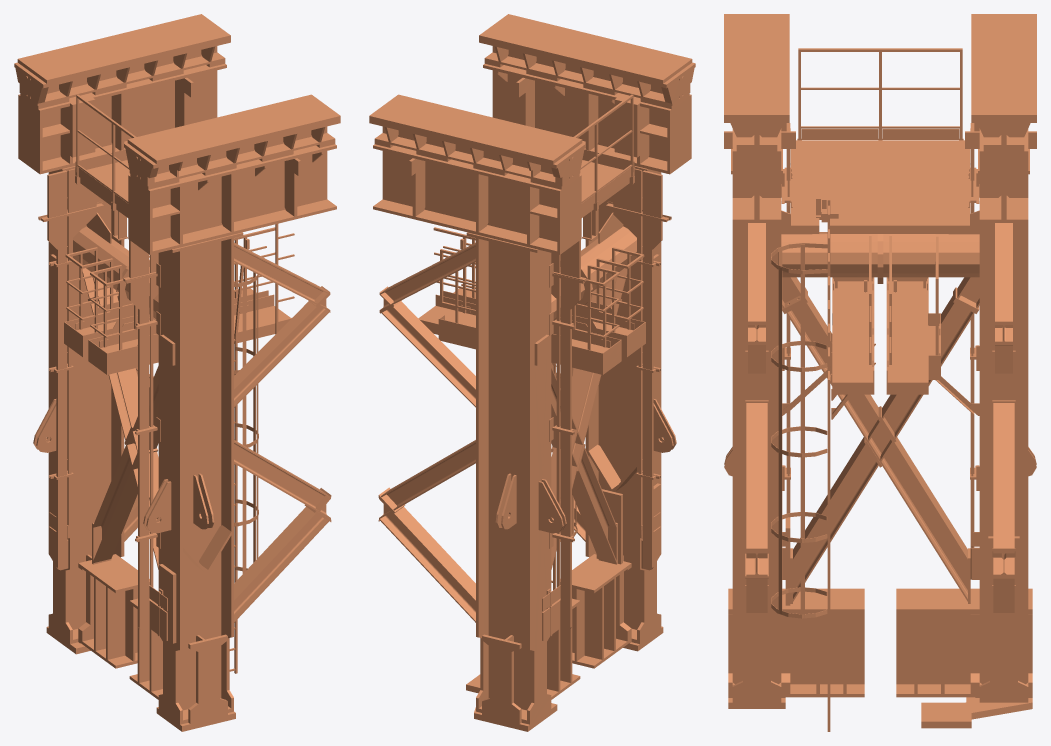
Rendered from HF-Truck-SideC-cut2.glb.
3 renders of one model, left to right at view 1: azimuth 30°, elevation 25°; view 2: azimuth 150°, elevation 25°; view 3: azimuth 270°, elevation 25°, orthographic. The views are drawn at different scales.
Parts seen in each view (by area): view 1: HF Truck Side C cut2; view 2: HF Truck Side C cut2; view 3: HF Truck Side C cut2.
Boxes of the visible parts, <box> form: HF Truck Side C cut2: <box>14,14,340,731</box>; HF Truck Side C cut2: <box>369,14,695,731</box>; HF Truck Side C cut2: <box>724,14,1036,731</box>.
Size of the model in its own units: 2.73 by 7.99 by 3.48.
